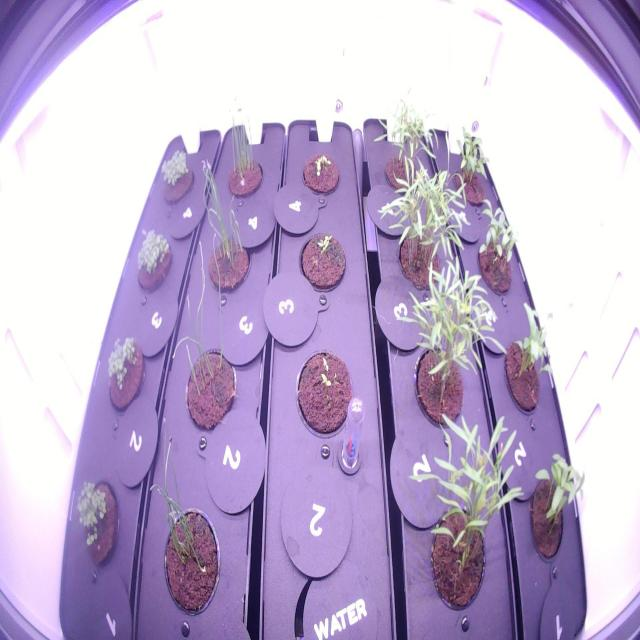germination: (146, 421, 237, 622), (169, 239, 243, 440), (194, 156, 259, 306), (522, 448, 592, 570), (288, 342, 360, 448), (499, 298, 558, 425), (71, 472, 128, 576), (474, 194, 524, 307), (222, 92, 268, 206), (101, 329, 150, 417), (448, 124, 495, 214), (296, 225, 350, 297), (133, 224, 177, 296), (297, 146, 343, 204), (157, 147, 197, 210)
